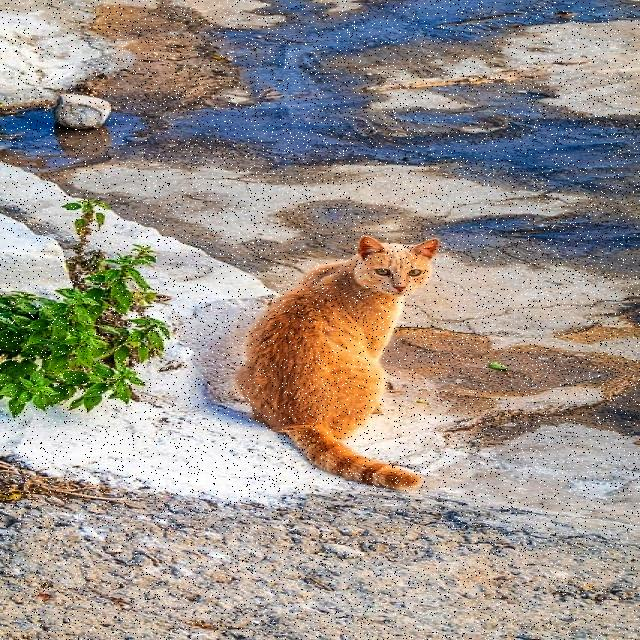cat: (238, 236, 438, 489)
